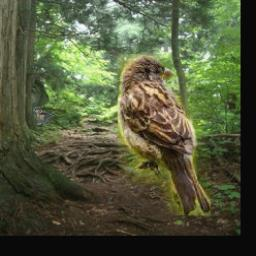Sparrow: (118, 55, 211, 216), (34, 107, 56, 125)
